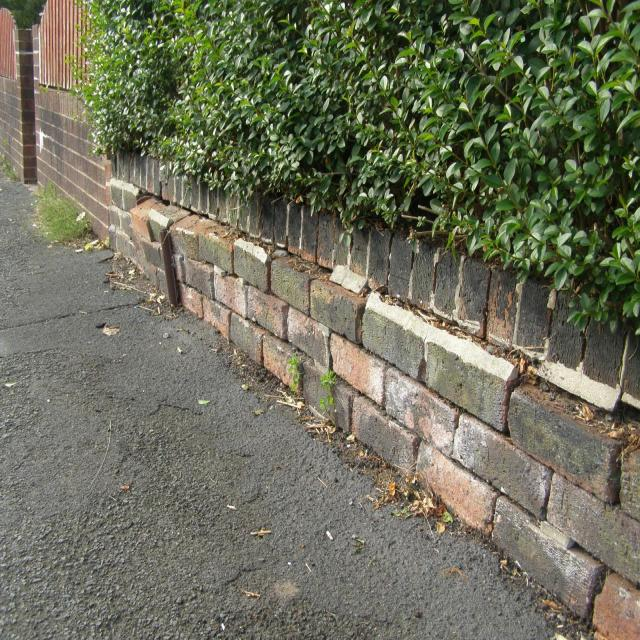unstable: (110, 150, 277, 318), (92, 158, 220, 323)
